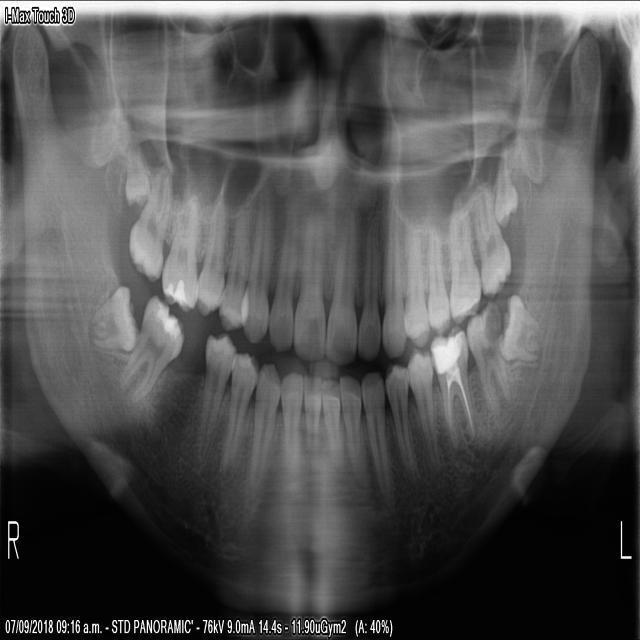LCD: (360, 369, 390, 509)
LCU: (381, 187, 405, 359)
LID: (322, 376, 344, 470), (338, 371, 360, 464)
LIU: (324, 200, 356, 367), (356, 213, 380, 364)
LMD: (428, 325, 476, 456), (466, 301, 509, 418), (501, 293, 542, 365)
LMU: (471, 179, 511, 299), (448, 198, 480, 326), (491, 142, 519, 227)
LPMD: (406, 346, 441, 474), (382, 361, 415, 476)
LPMU: (404, 225, 429, 348), (426, 219, 450, 336)
RCD: (248, 358, 279, 488)
RCU: (236, 181, 269, 344)
RID: (278, 369, 301, 465), (302, 371, 321, 452)
RIU: (289, 212, 326, 362), (266, 193, 298, 352)
RMD: (115, 291, 184, 405), (88, 281, 138, 351)
RMU: (126, 162, 171, 284), (159, 188, 199, 313), (122, 143, 148, 207)
RPMD: (196, 331, 235, 462), (219, 346, 258, 469)
RPMU: (216, 196, 250, 331), (193, 193, 226, 318)
